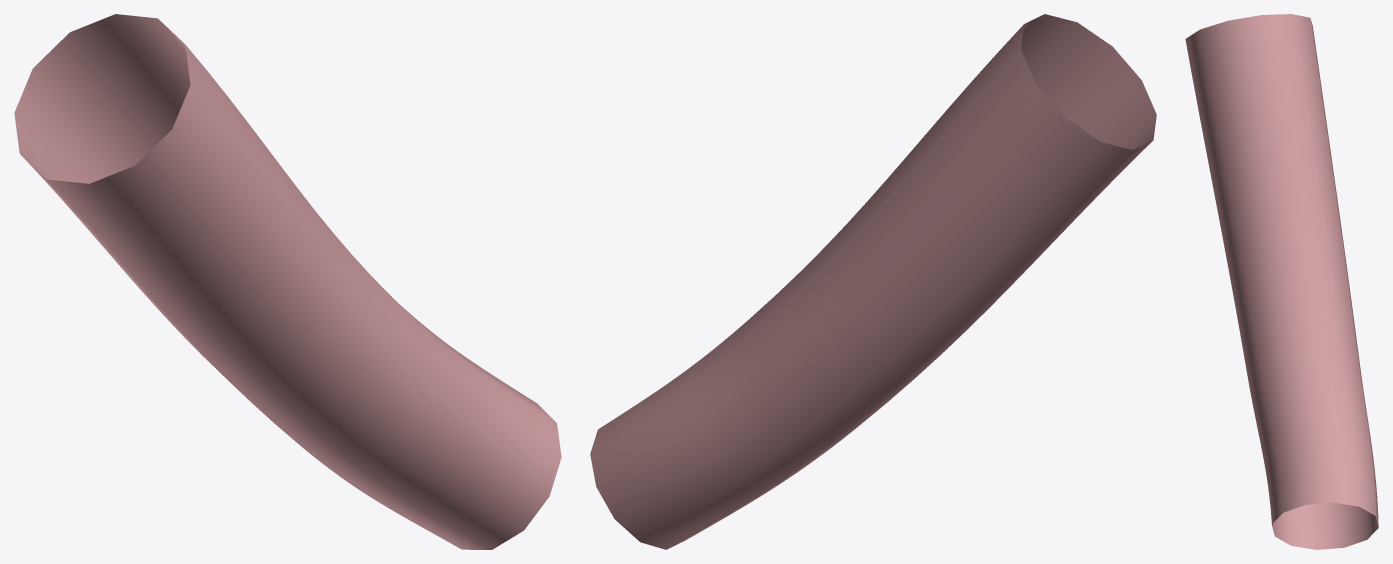
3 views of the same model, side by side, from view 1: azimuth 30°, elevation 25°; view 2: azimuth 150°, elevation 25°; view 3: azimuth 270°, elevation 25° (orthographic). The views are drawn at different scales.
Parts seen in each view (by area): view 1: ZA_3d79616613fd1f75; view 2: ZA_3d79616613fd1f75; view 3: ZA_3d79616613fd1f75.
Boxes of the visible parts, bbox=[...] form: ZA_3d79616613fd1f75: bbox=[14, 14, 561, 549]; ZA_3d79616613fd1f75: bbox=[590, 14, 1156, 549]; ZA_3d79616613fd1f75: bbox=[1185, 14, 1378, 549].
Bounding box in the file's own units: 0.0555 × 0.0606 × 0.025.
